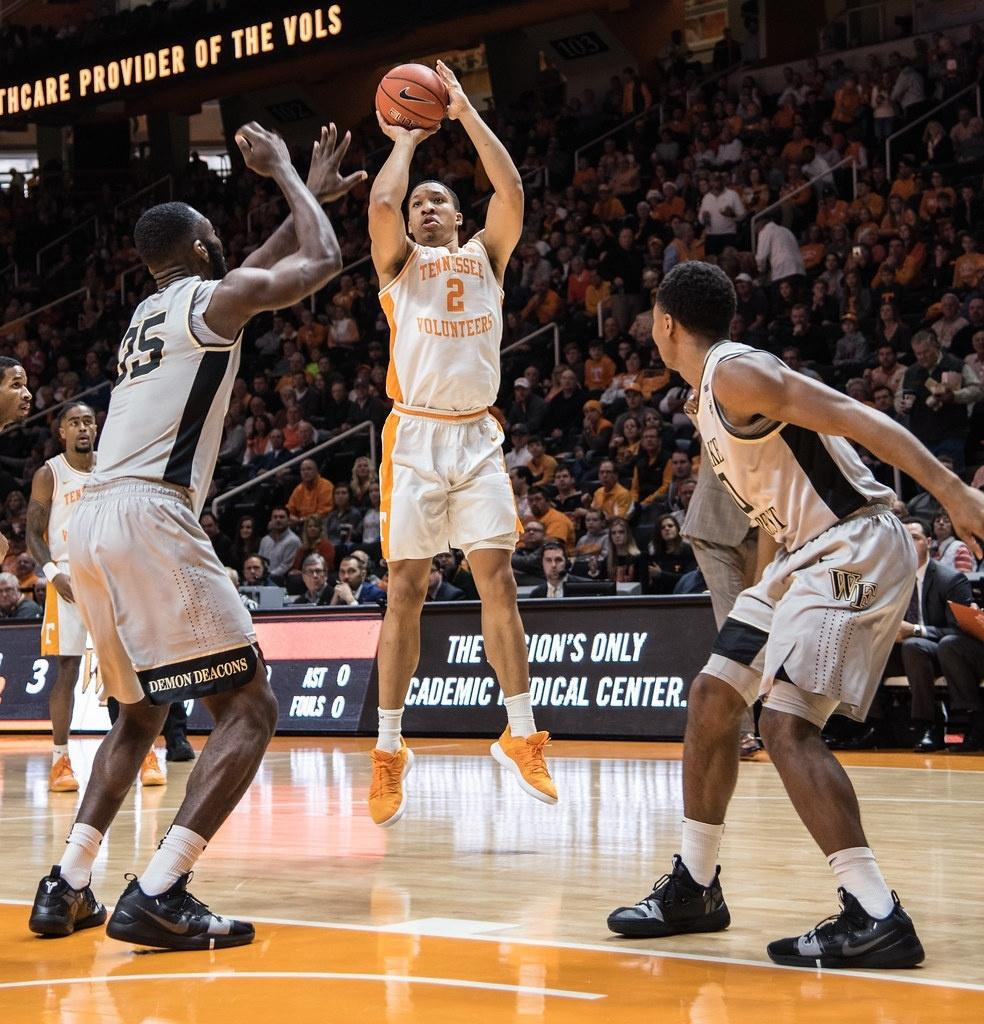basketball-player: (602, 234, 974, 1005), (60, 154, 361, 969), (364, 76, 560, 844), (46, 402, 153, 793), (86, 156, 92, 161)
